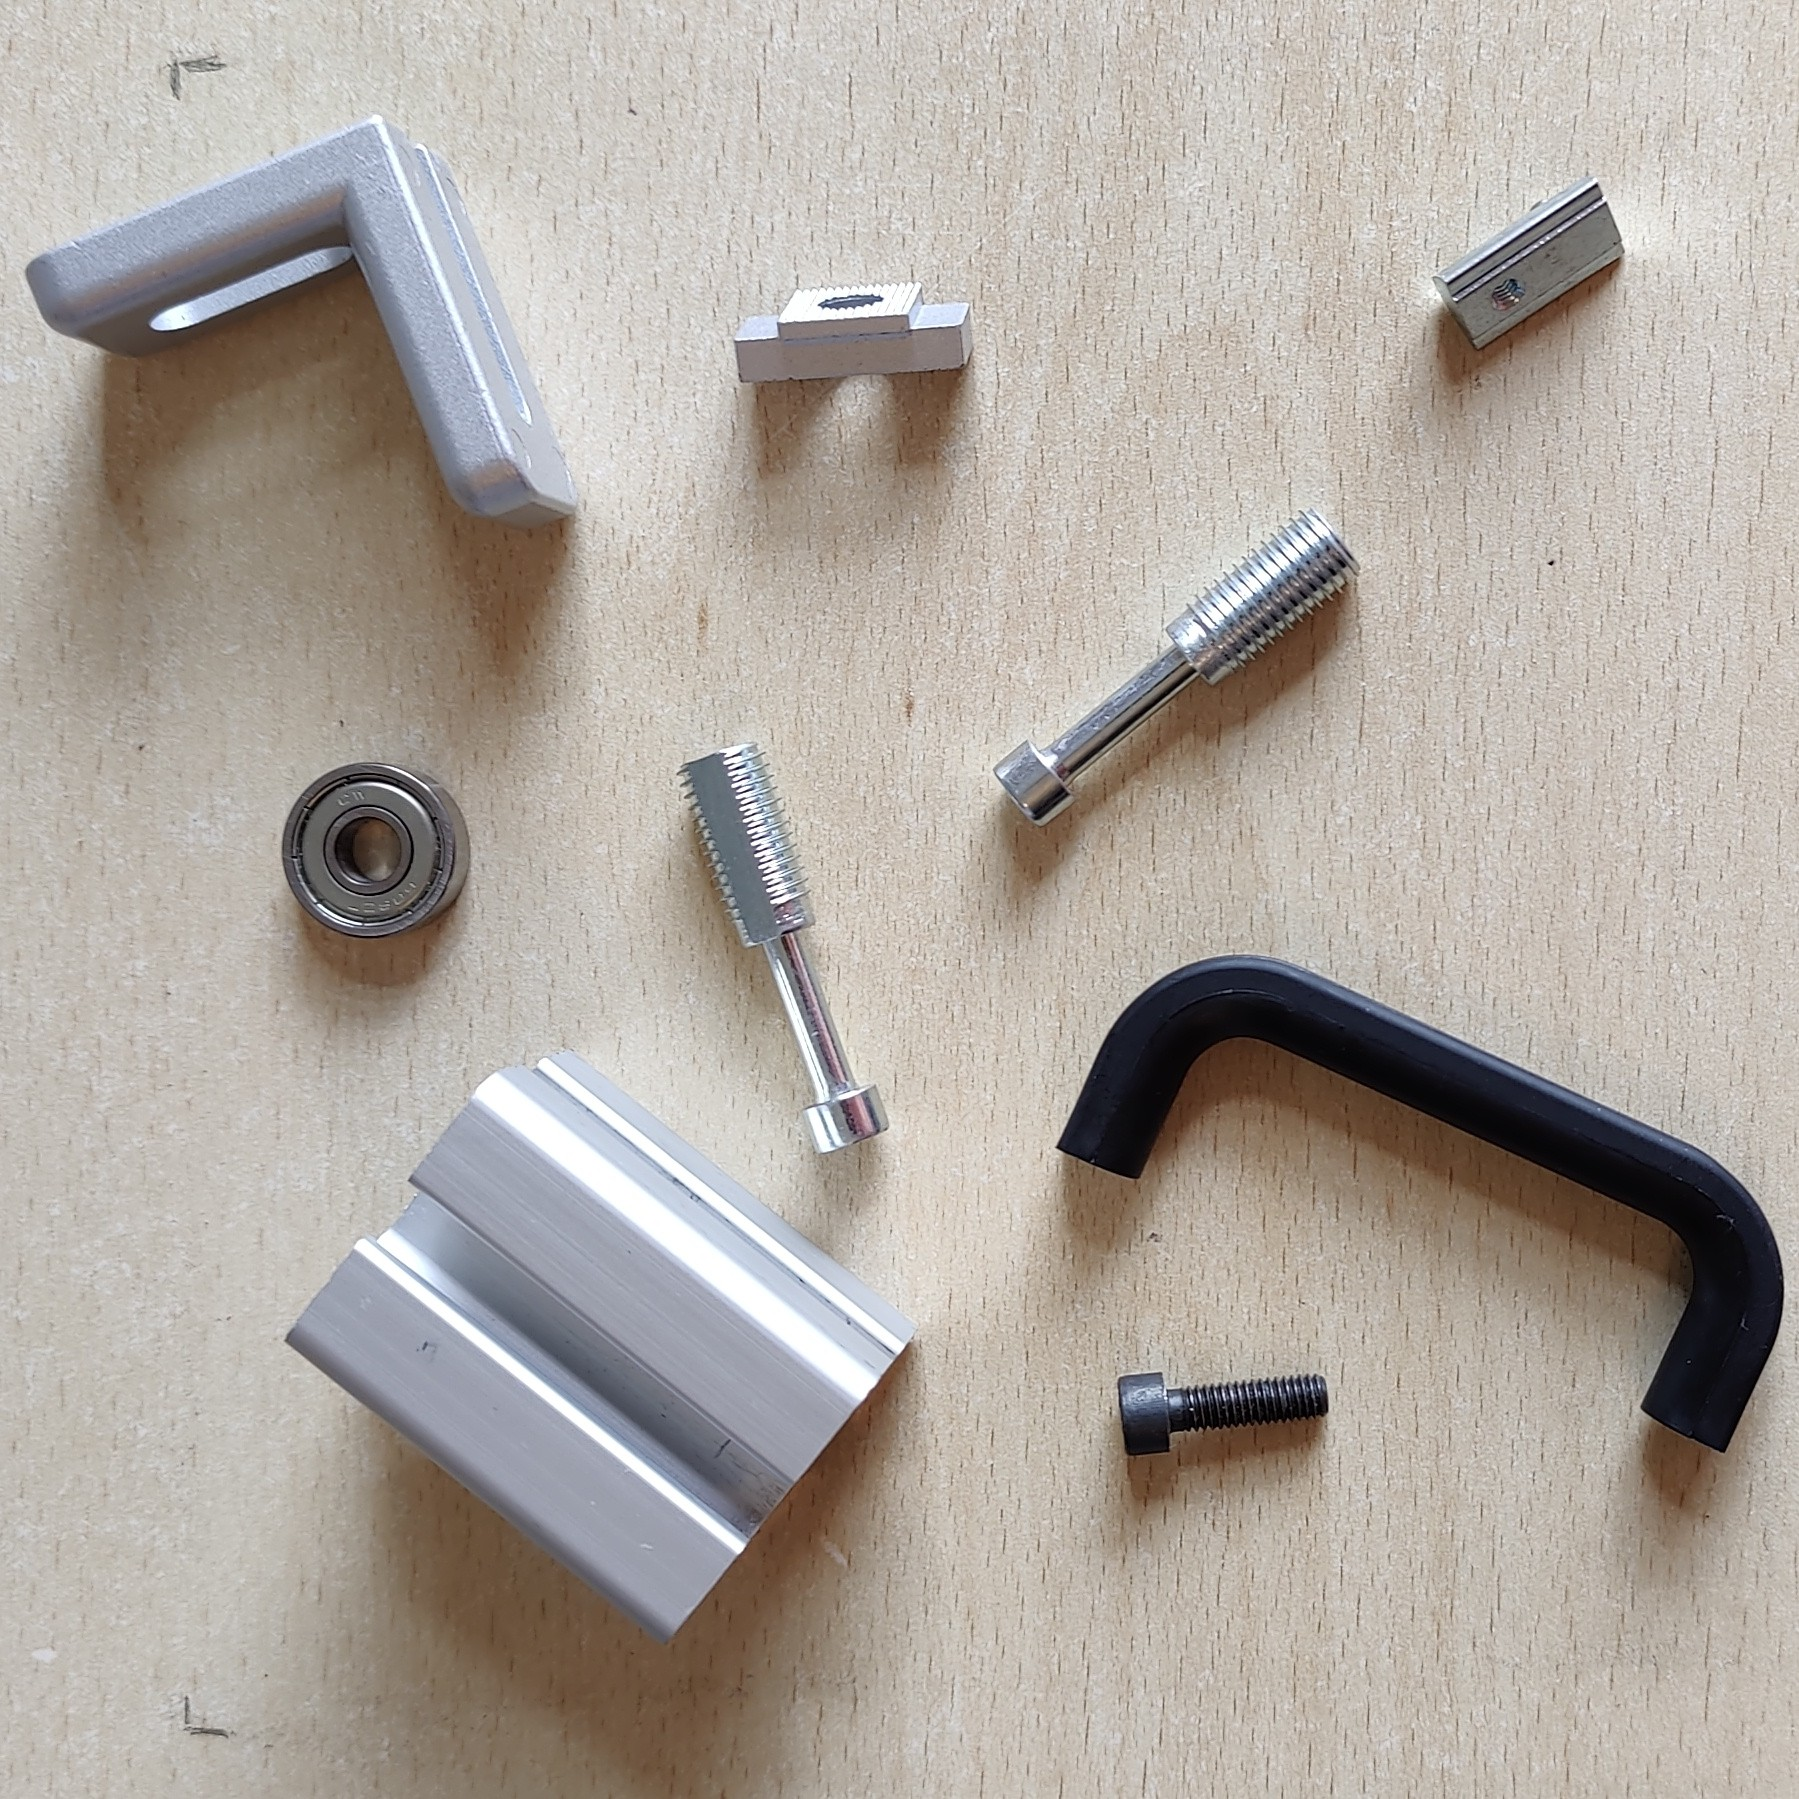Aluminium Extension: (282, 1041, 919, 1652)
Ball Bearing: (278, 759, 474, 941)
Multiwinkel: (20, 110, 582, 535)
Pull Handle: (1051, 952, 1787, 1458)
Shoulder Socket Head Cap Screw: (988, 504, 1364, 830), (674, 740, 895, 1156)
Socket Head Cap Screw: (1112, 1366, 1331, 1458)
T Nut Square: (728, 278, 977, 387)
T Spring Nut: (1430, 171, 1628, 353)
